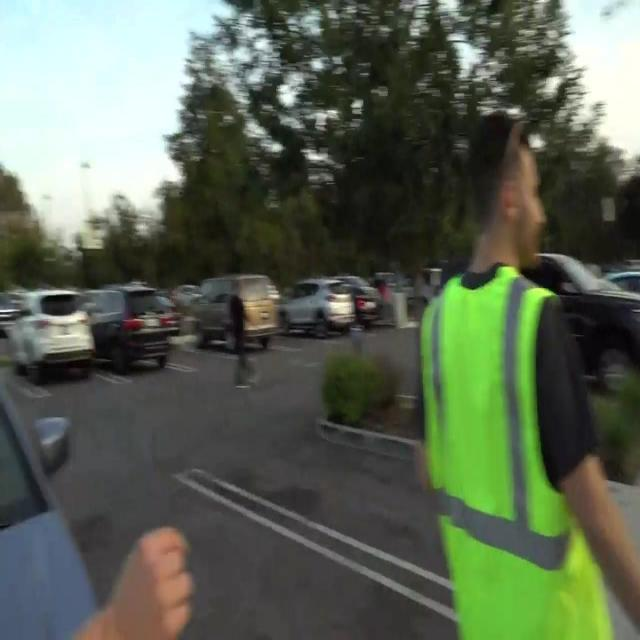vest: (420, 267, 616, 639)
